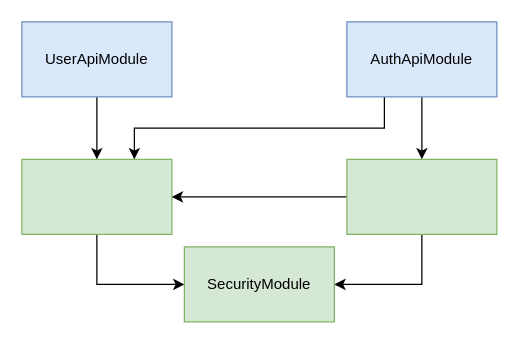
Image size: 519x344. Some labels were removed from this diagram. Here are the shapes that lost their labels. From the top down, the centre of each, then its label:
At point (96, 196): "UserModule".
At point (421, 196): "AuthModule".
